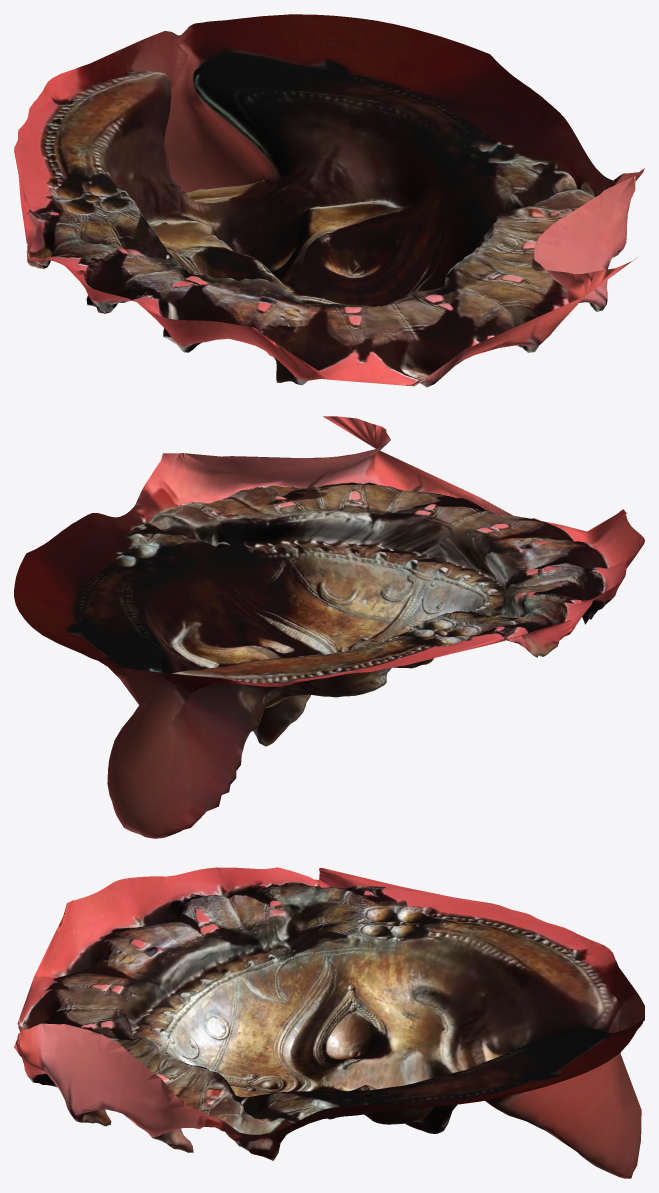
The model's file is Shiradi_Daiva.glb.
3 renders of one model, top to bottom at view 1: azimuth 30°, elevation 25°; view 2: azimuth 150°, elevation 25°; view 3: azimuth 270°, elevation 25°, orthographic. The views are drawn at different scales.
Visible parts, largest first — view 1: 3DModel; view 2: 3DModel; view 3: 3DModel.
Boxes of the visible parts, x1,y1,x2,y2 form: 3DModel: (14,14,644,387); 3DModel: (14,416,644,838); 3DModel: (14,867,644,1178).
Size of the model in its own units: 1.1 by 0.3766 by 1.26.
1 material, 1 textured.
